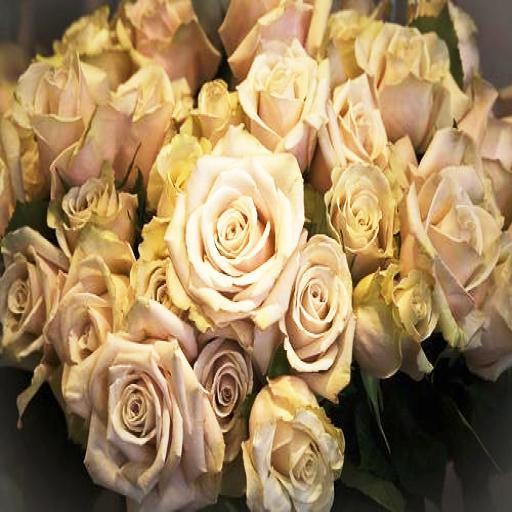rose: (166, 129, 304, 324), (82, 334, 224, 512), (244, 374, 346, 512), (405, 155, 512, 282), (287, 233, 356, 382), (236, 43, 324, 159), (318, 79, 394, 177), (324, 160, 396, 262), (197, 340, 254, 456)
